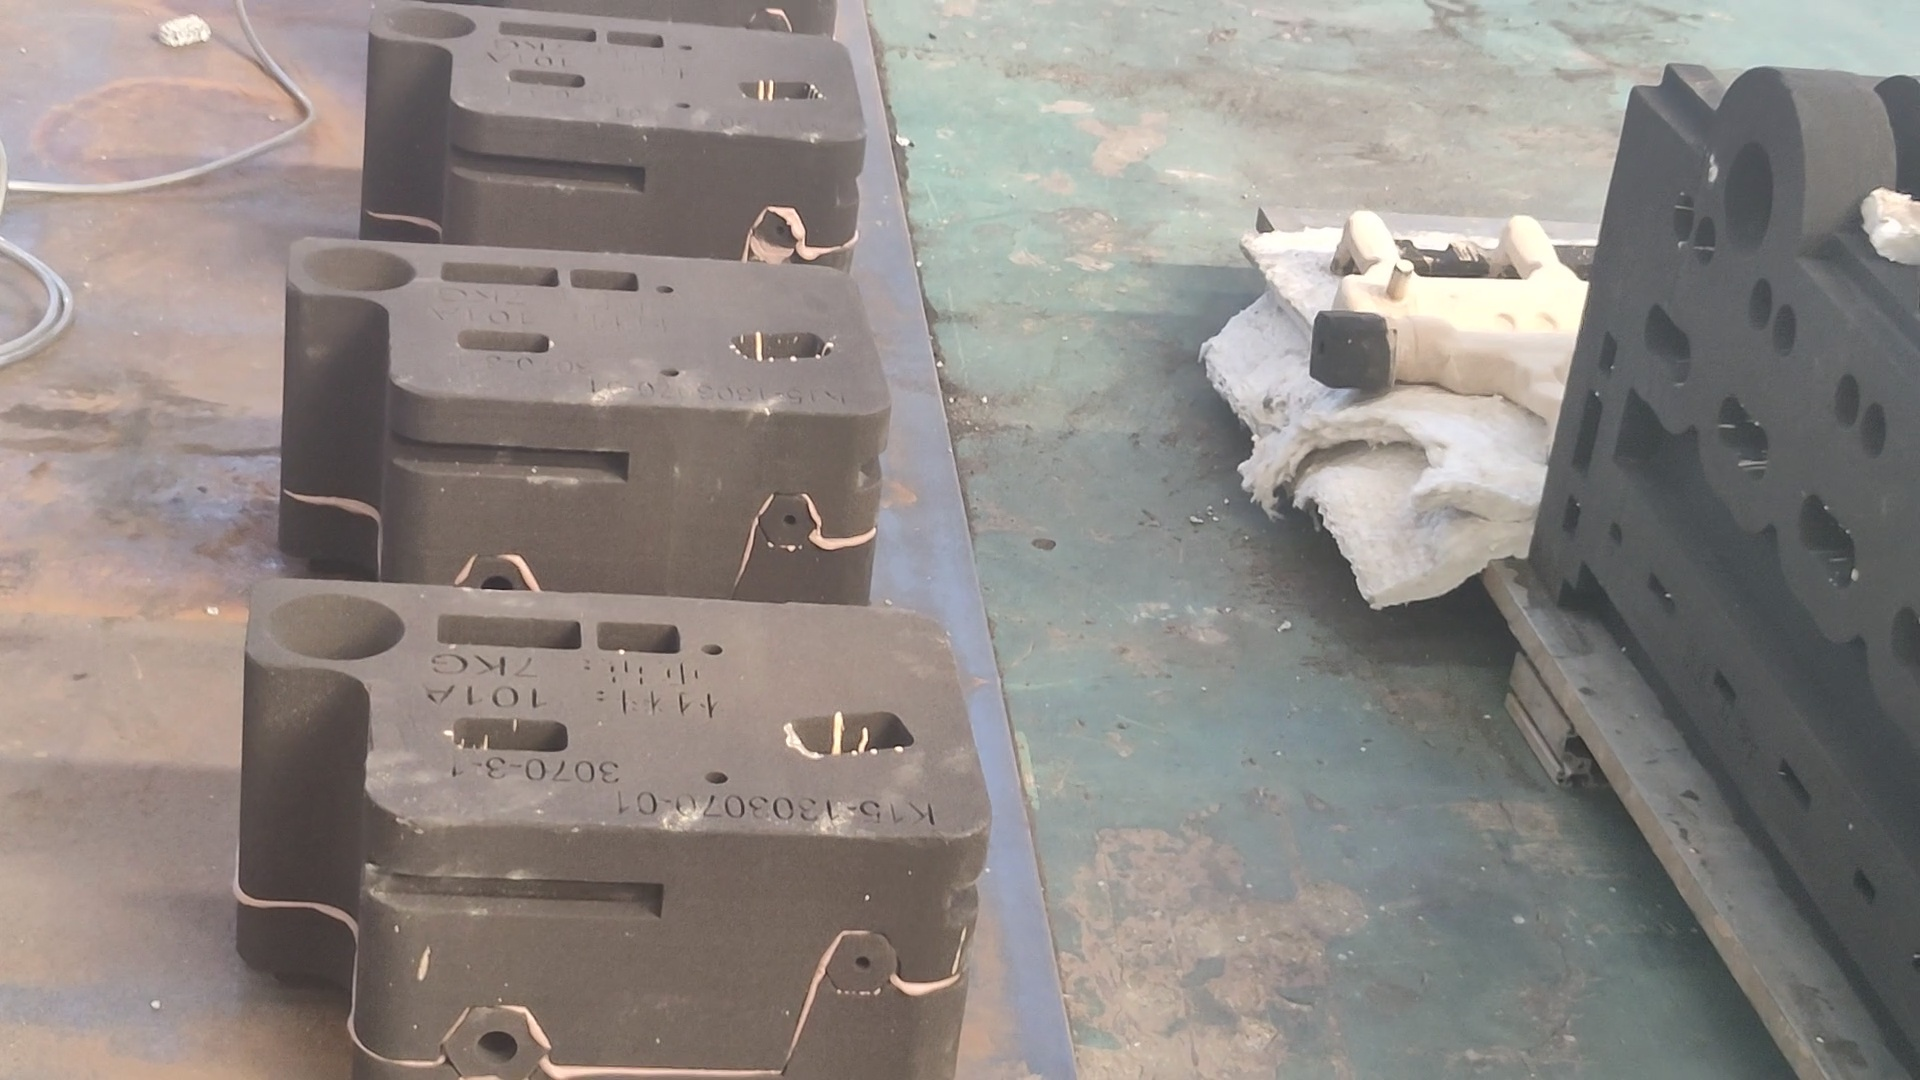pouring hole: (268, 593, 405, 659), (1720, 141, 1774, 255), (301, 247, 415, 291), (382, 7, 476, 40)
